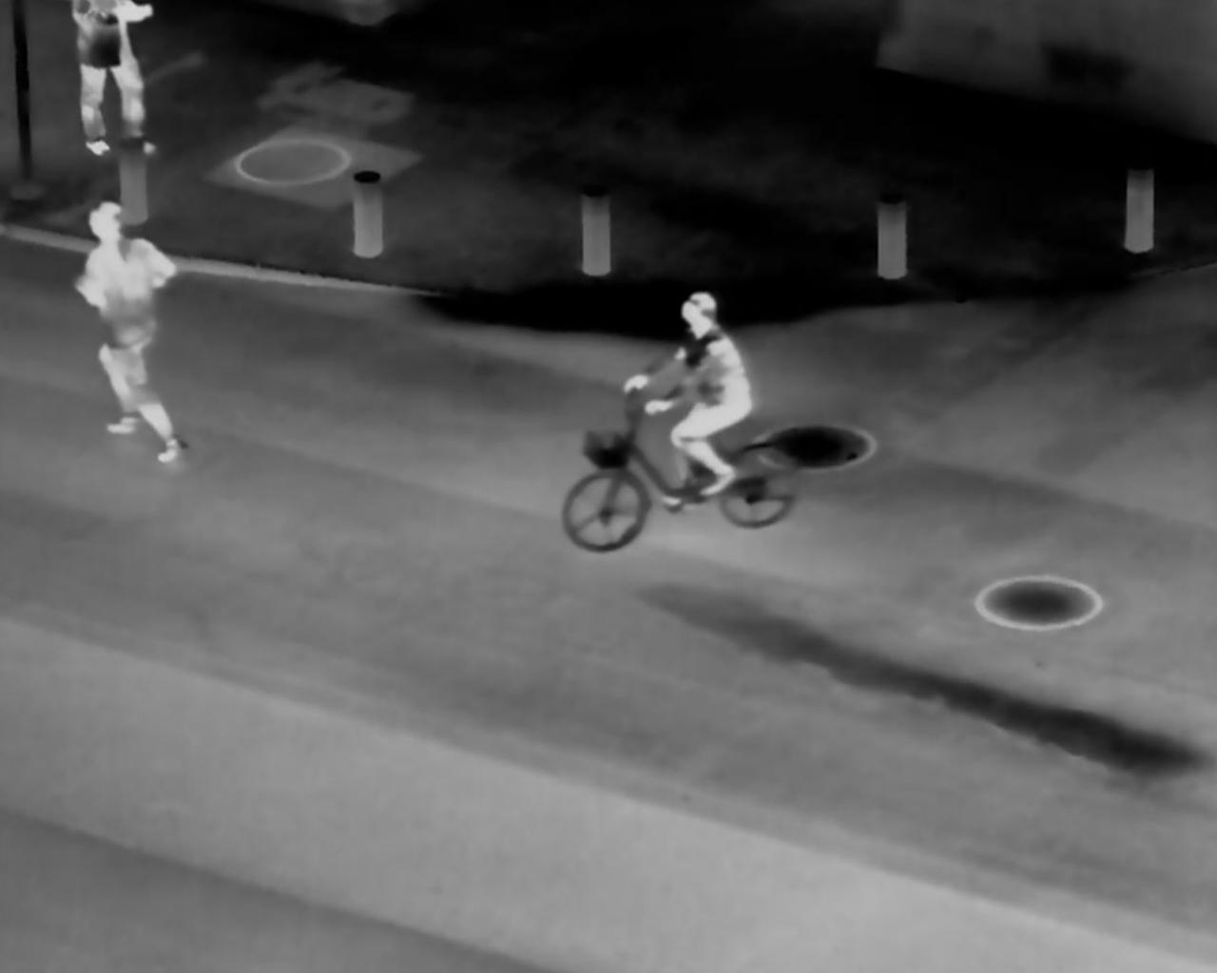person: (69, 200, 195, 465), (618, 274, 755, 508), (63, 2, 160, 159)
